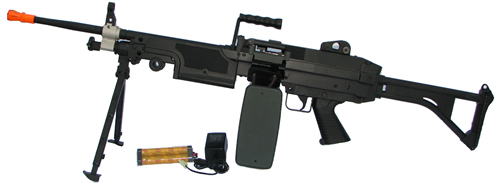rifle: (4, 5, 492, 176)
